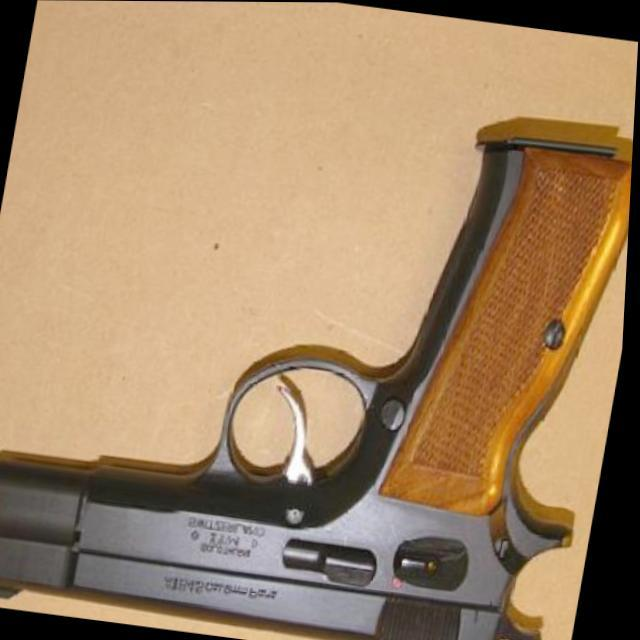gun: (0, 70, 637, 640)
